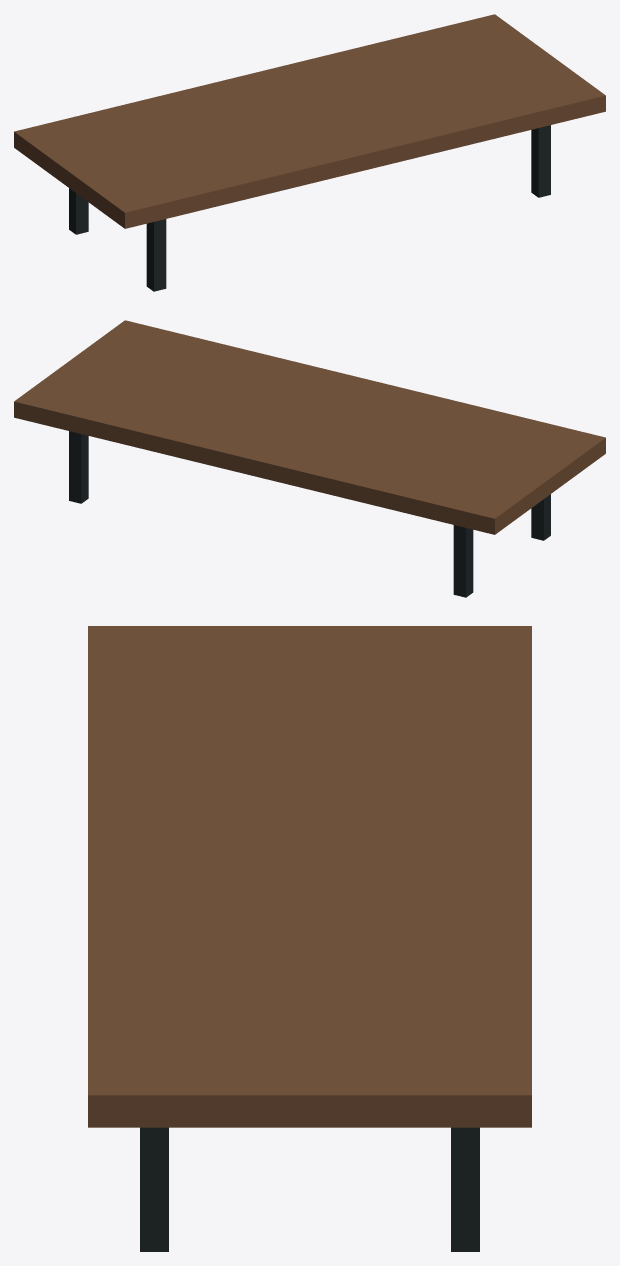
Rendered from dining-table.glb.
The picture shows the model from 3 angles, top to bottom: view 1: azimuth 30°, elevation 25°; view 2: azimuth 150°, elevation 25°; view 3: azimuth 270°, elevation 25°; orthographic projection. The views are drawn at different scales.
Visible parts, largest first — view 1: dining tabletop, table leg (×3); view 2: dining tabletop, table leg (×3); view 3: dining tabletop, table leg (×2).
Boxes of the visible parts, <box> form: dining tabletop: <box>14,14,605,228</box>; table leg (×3): <box>69,125,550,291</box>; dining tabletop: <box>14,320,605,534</box>; table leg (×3): <box>69,431,550,597</box>; dining tabletop: <box>88,626,531,1127</box>; table leg (×2): <box>140,1127,479,1251</box>.
Size of the model in its own units: 5 by 0.98 by 2.
